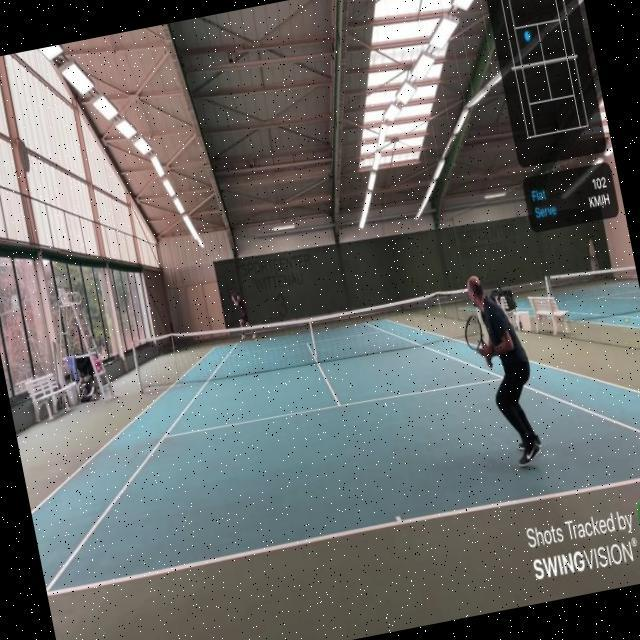court: (7, 264, 640, 598)
net: (130, 273, 487, 407)
player: (454, 268, 550, 472)
